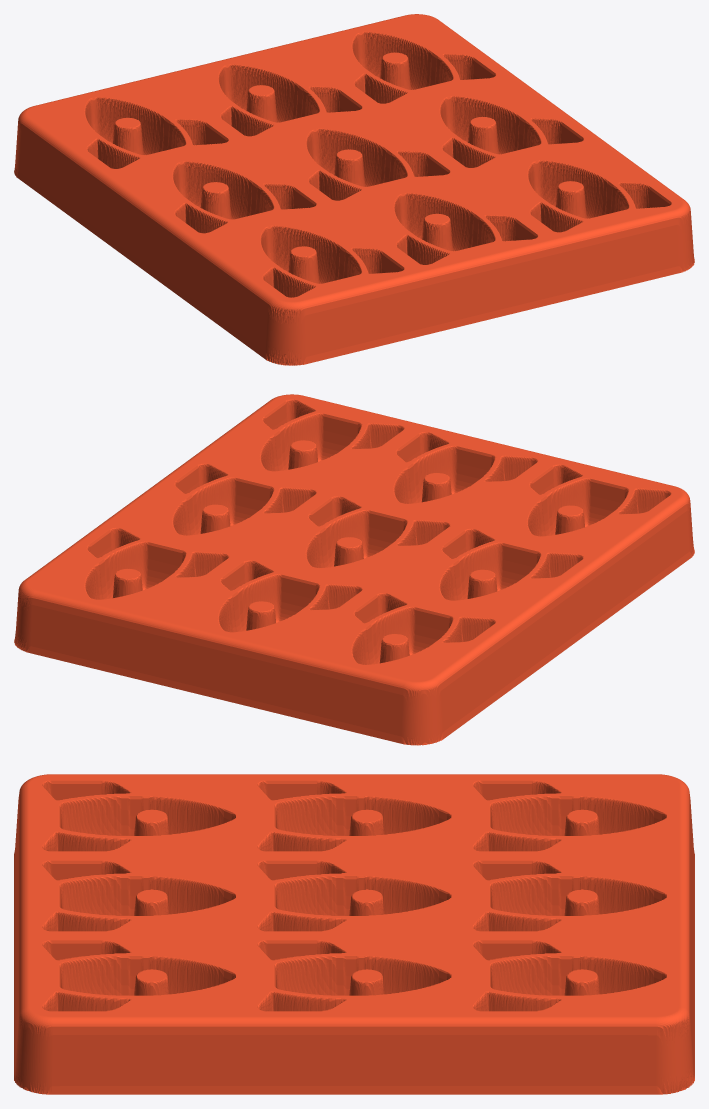
File: mold.glb
3 views of the same model, one above another, from view 1: azimuth 30°, elevation 25°; view 2: azimuth 150°, elevation 25°; view 3: azimuth 270°, elevation 25° (orthographic). The views are drawn at different scales.
Parts seen in each view (by area): view 1: geometry_0; view 2: geometry_0; view 3: geometry_0.
Boxes of the visible parts, box(x1,y1,x2,y2) form: geometry_0: box(14, 14, 694, 365); geometry_0: box(14, 394, 694, 745); geometry_0: box(14, 774, 694, 1094).
Bounding box in the file's own units: 0.1411 × 0.0185 × 0.1595.
